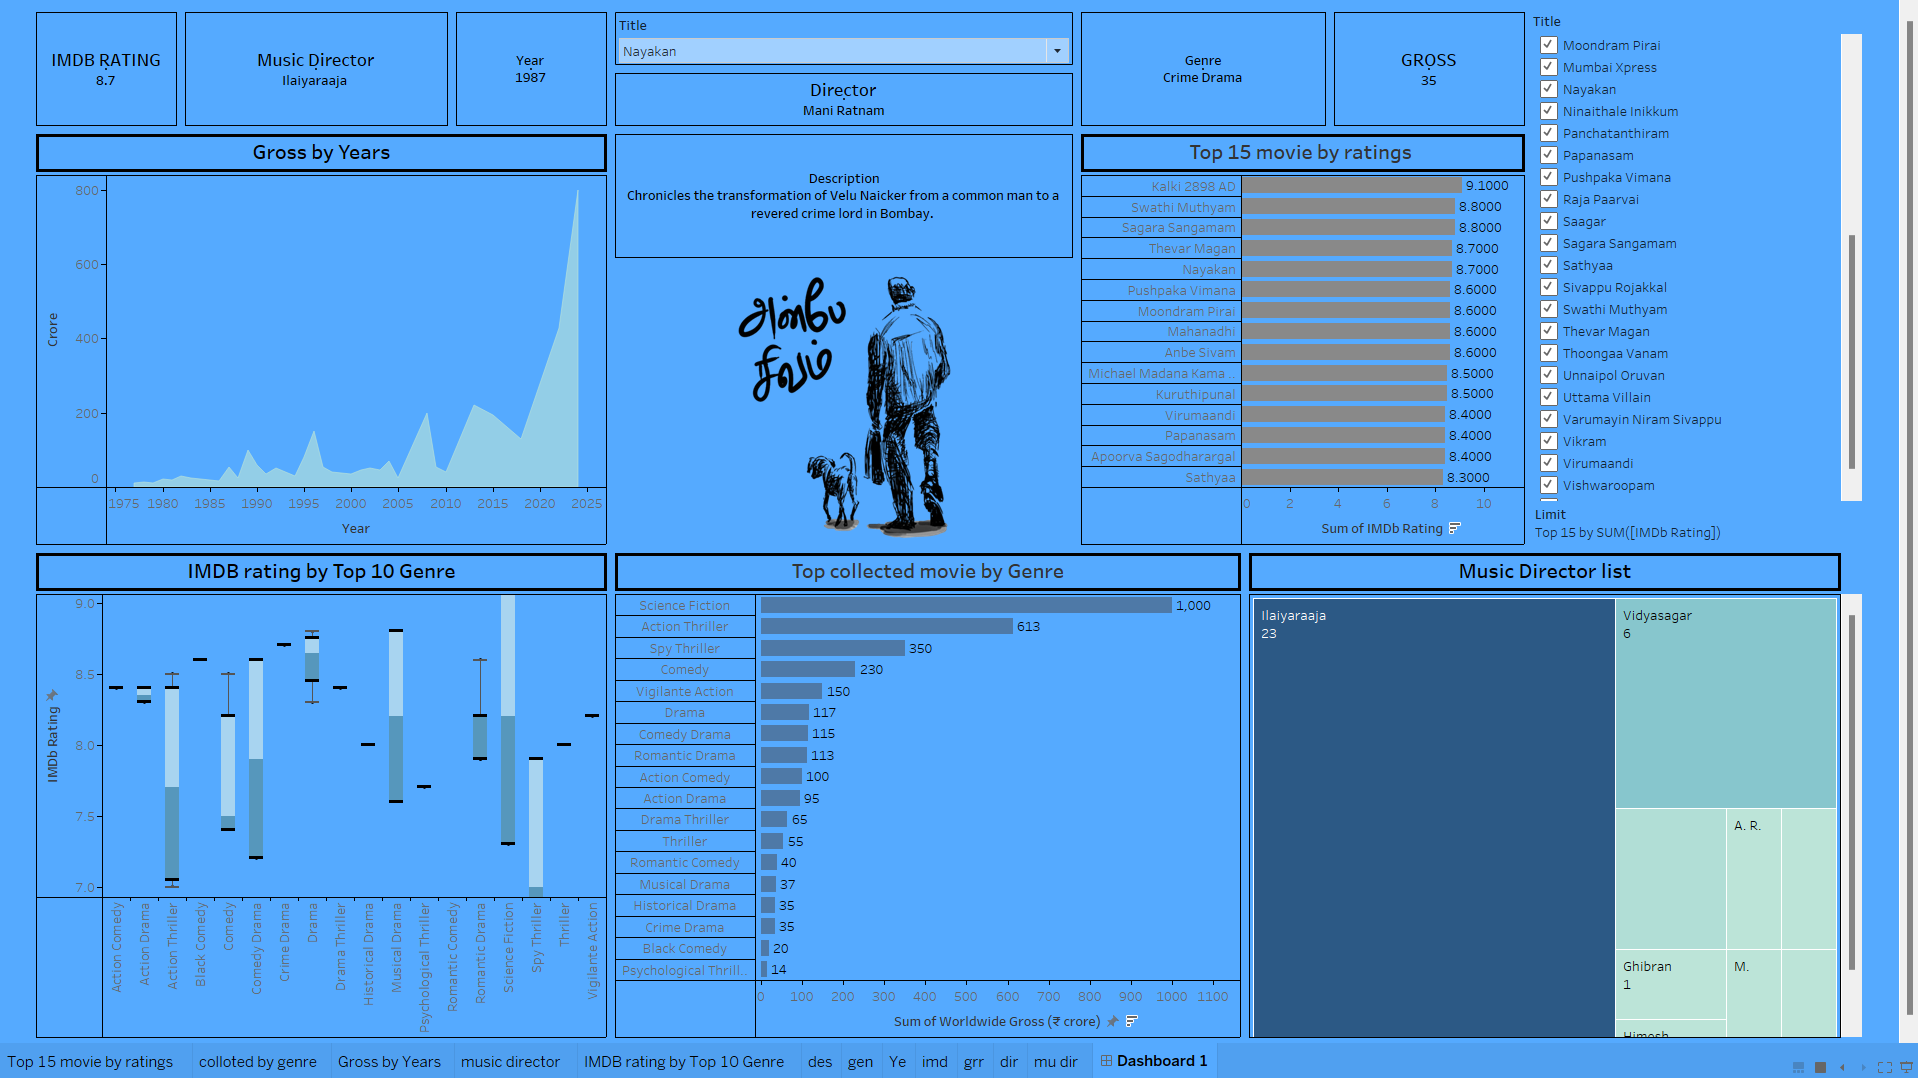

The page's visual inventory and layout, read from the dashboard file:
{"tool":"tableau","page":{"name":"Dashboard 1","canvas":[1850,1050],"ordinal":0},"visuals":[{"type":"worksheet","title":"imd","mark":"Circle","box":[8,8,149,122]},{"type":"worksheet","title":"mu dir ","mark":"Circle","box":[157,8,271,122]},{"type":"worksheet","title":"Ye","mark":"Circle","box":[428,8,159.5,122]},{"type":"filter","title":"des","param":"[federated.168kehl0prlg7o16mx99b03uckc5].[none:Title:nk]","box":[587.5,8,465.5,61]},{"type":"worksheet","title":"gen","mark":"Circle","box":[1053,8,253,122]},{"type":"worksheet","title":"grr","mark":"Circle","box":[1306,8,198.5,122]},{"type":"filter","title":"Top 15 movie by ratings ","param":"[federated.168kehl0prlg7o16mx99b03uckc5].[none:Title:nk]","box":[1504.5,8,337.5,541]},{"type":"worksheet","title":"dir","mark":"Circle","box":[587.5,69,465.5,61]},{"type":"worksheet","title":"Gross by Years","mark":"Automatic","rows":["Worldwide Gross (₹ crore)"],"cols":["Year"],"box":[8,130,579,419]},{"type":"worksheet","title":"des","mark":"Circle","box":[587,130,465.8,132]},{"type":"worksheet","title":"Top 15 movie by ratings ","mark":"Automatic","rows":["Title"],"cols":["IMDb Rating"],"box":[1052.8,130,451.8,419]},{"type":"image","param":"C:/Users/crazy/Downloads/Untitled_design__3_-removebg-preview.png","box":[587,262,465.8,287]},{"type":"worksheet","title":"IMDB rating by Top 10 Genre","mark":"Circle","rows":["IMDb Rating"],"cols":["Genre"],"box":[8,549,579,493]},{"type":"worksheet","title":"colloted by genre","mark":"Automatic","rows":["Genre"],"cols":["Worldwide Gross (₹ crore)"],"box":[587,549,634,493]},{"type":"worksheet","title":"music director ","mark":"Automatic","box":[1221,549,621,493]}]}

Visuals, with their boxes in screenshot pixels (x1, y1, x2, y2):
"imd" worksheet (Circle marks): x1=48 y1=58 x2=193 y2=177
"mu dir " worksheet (Circle marks): x1=193 y1=58 x2=458 y2=177
"Ye" worksheet (Circle marks): x1=458 y1=58 x2=614 y2=177
"des" filter: x1=614 y1=58 x2=1069 y2=117
"gen" worksheet (Circle marks): x1=1069 y1=58 x2=1316 y2=177
"grr" worksheet (Circle marks): x1=1316 y1=58 x2=1510 y2=177
"Top 15 movie by ratings " filter: x1=1510 y1=58 x2=1840 y2=587
"dir" worksheet (Circle marks): x1=614 y1=117 x2=1069 y2=177
"Gross by Years" worksheet: x1=48 y1=177 x2=614 y2=587
"des" worksheet (Circle marks): x1=614 y1=177 x2=1069 y2=306
"Top 15 movie by ratings " worksheet: x1=1069 y1=177 x2=1511 y2=587
image: x1=614 y1=306 x2=1069 y2=587
"IMDB rating by Top 10 Genre" worksheet (Circle marks): x1=48 y1=587 x2=614 y2=1068
"colloted by genre" worksheet: x1=614 y1=587 x2=1233 y2=1068
"music director " worksheet: x1=1233 y1=587 x2=1840 y2=1068
